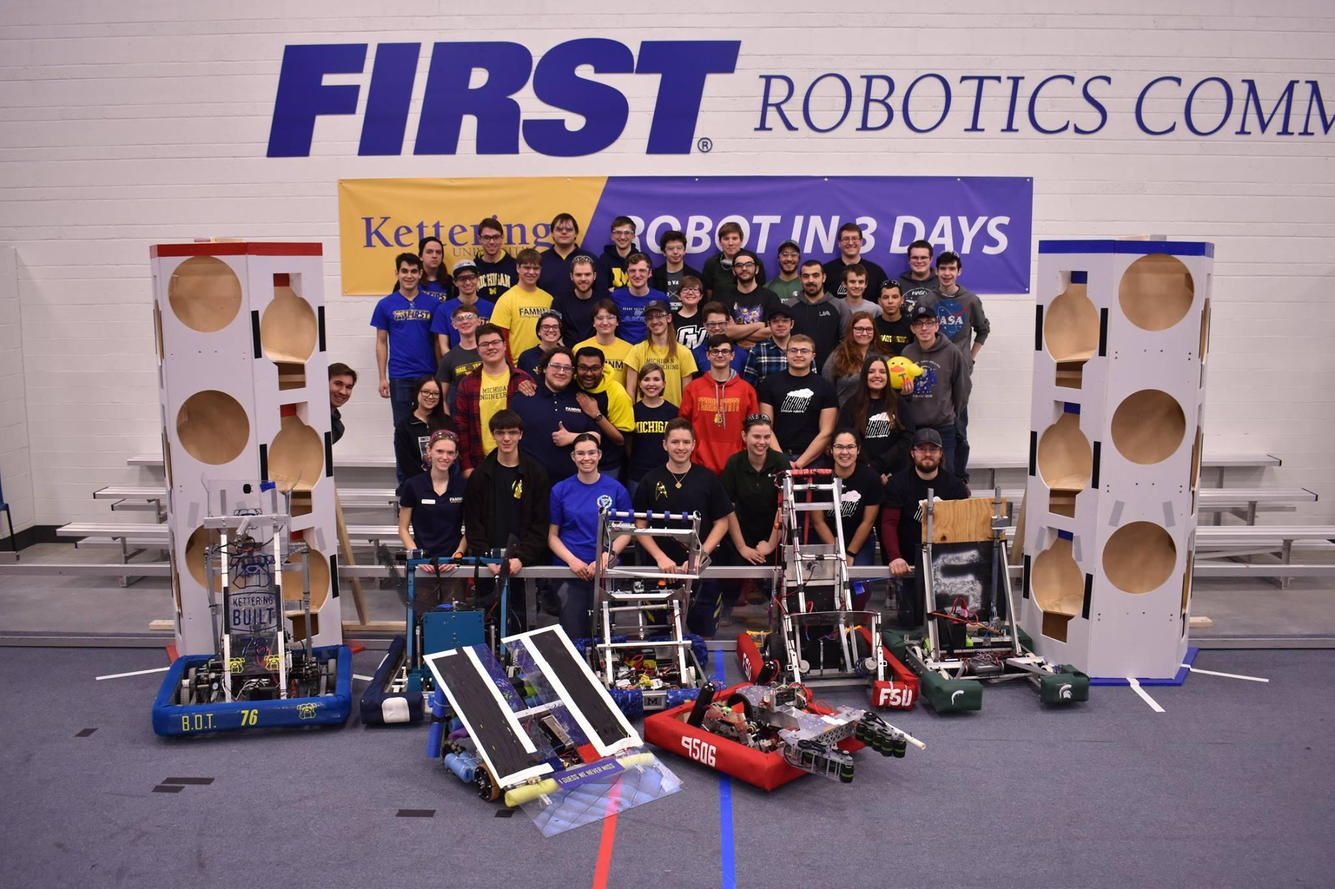robot: (151, 448, 356, 746), (738, 459, 924, 720), (892, 486, 1096, 719), (634, 656, 920, 795), (359, 544, 549, 732), (585, 498, 718, 713)
